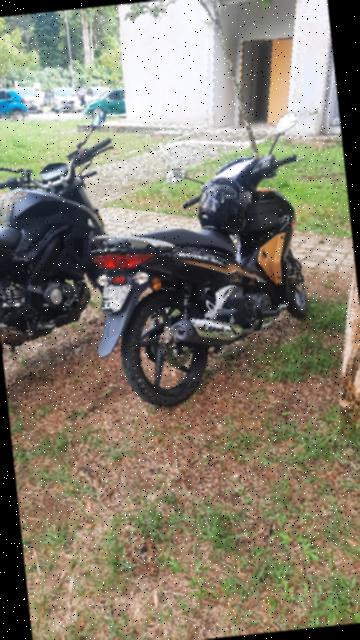License_Plate: (98, 285, 137, 316)
motorcycle: (71, 104, 330, 416)
